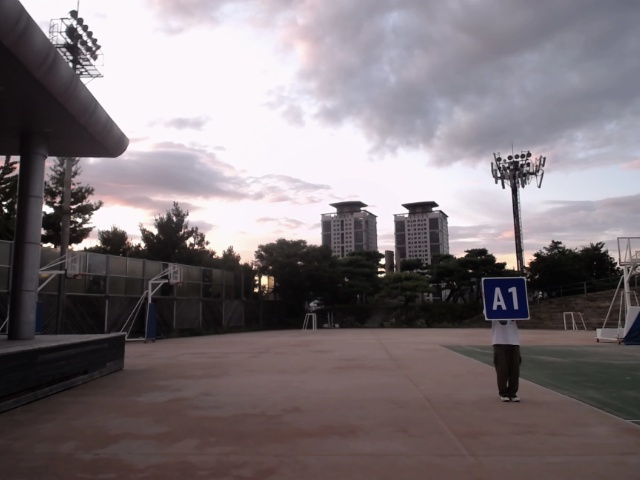delivery_a1: (482, 277, 529, 319)
